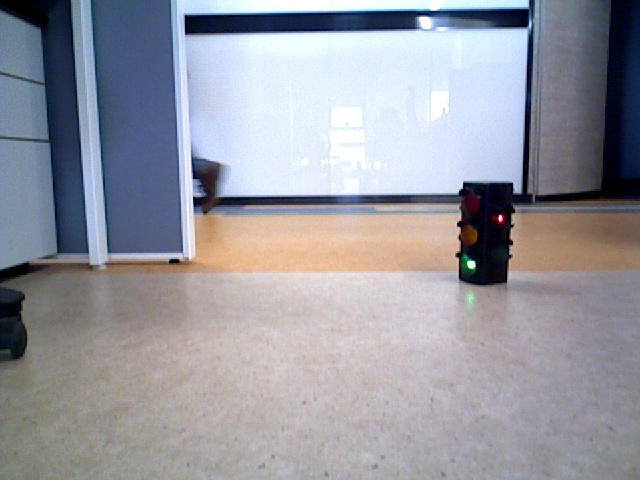green: (460, 184, 506, 281)
